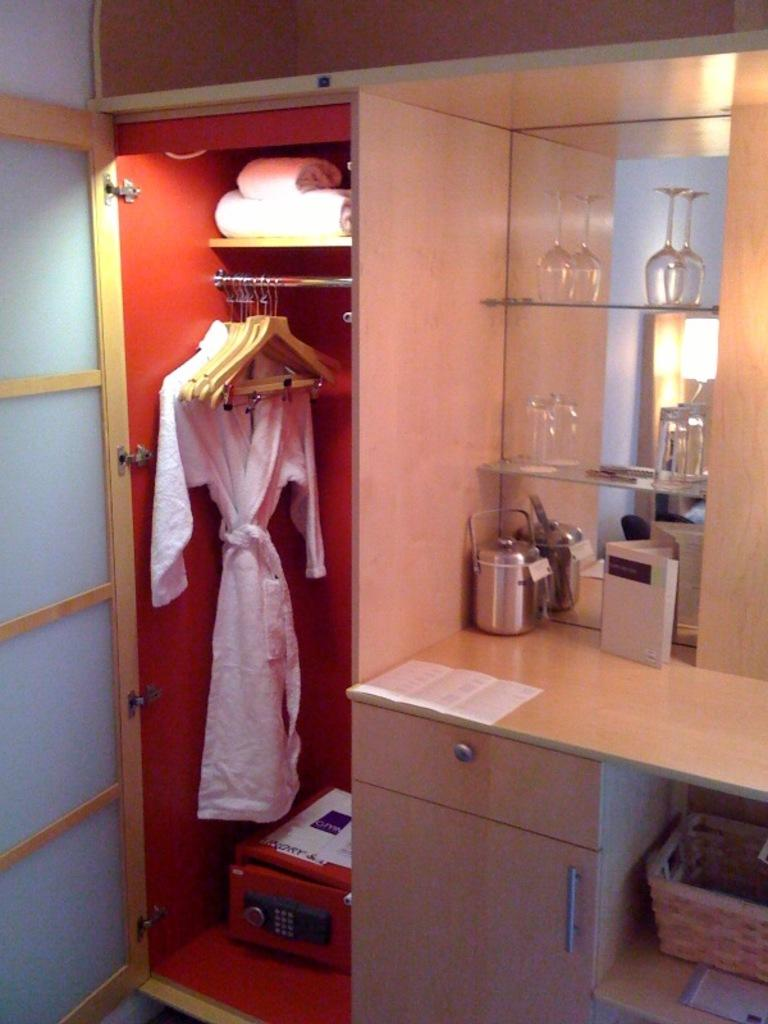cabinet_door: (8, 118, 138, 977), (364, 819, 582, 1024), (374, 714, 576, 832)
handle: (558, 854, 582, 962), (448, 731, 475, 774)
